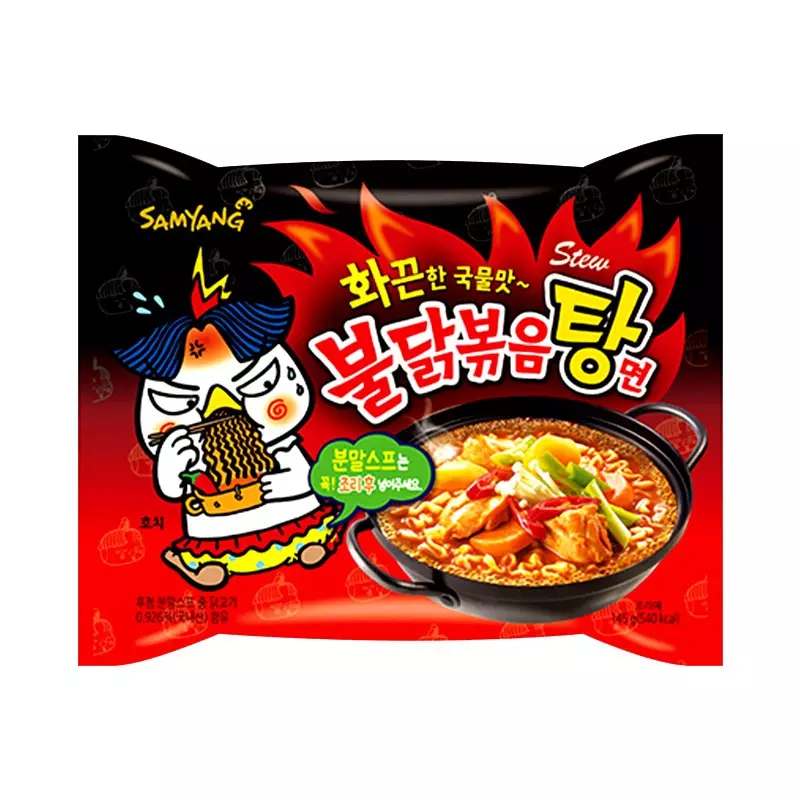Snack: (58, 118, 734, 681)
